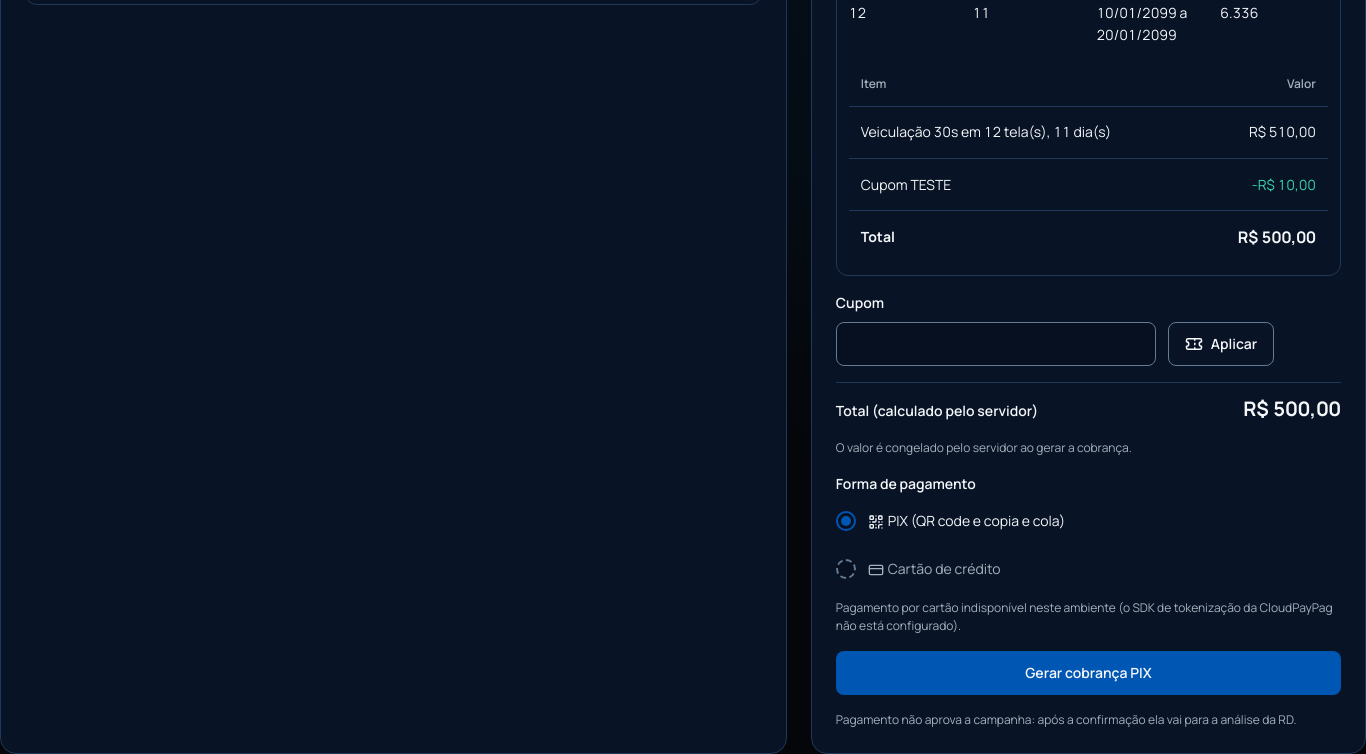
Test: carrinho / checkout › 503 dependência indisponível: explica que nada foi cobrado nem reservado
(page scrolled)
Expected: the text with test id "cart-total" reads "R$ 500,00", x1=1243 y1=394 x2=1341 y2=422
Click the button "Gerar cobrança PIX" at (1088, 672), box x1=836 y1=650 x2=1341 y2=694
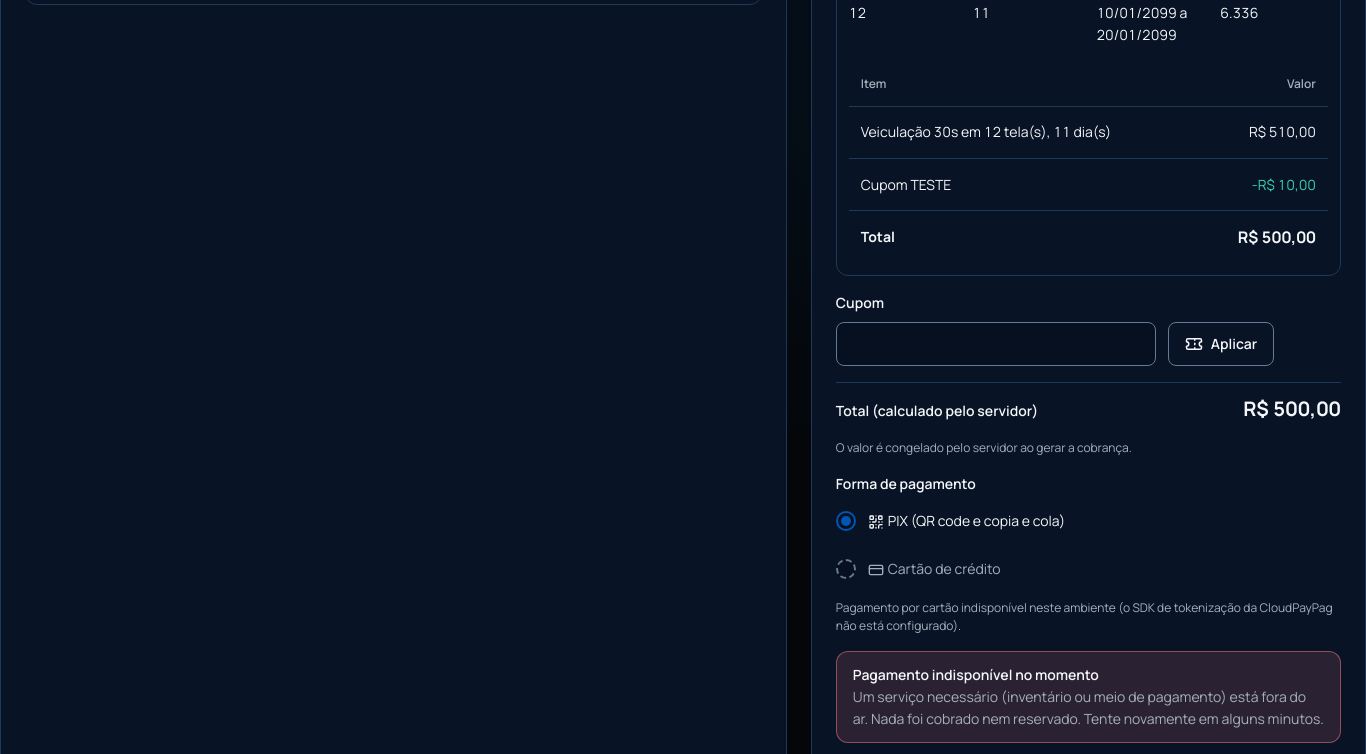
Expected: the message with test id "checkout-error-503" shows "Nada foi cobrado nem reservado", x1=853 y1=686 x2=1324 y2=728
